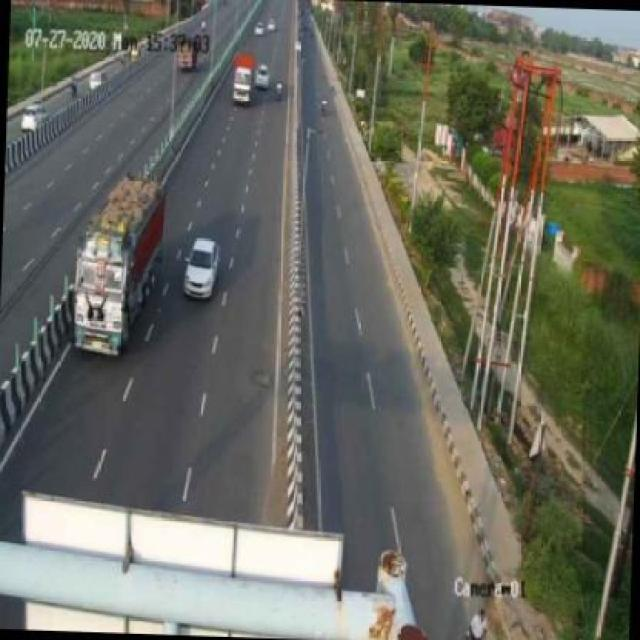car: (177, 234, 223, 312)
